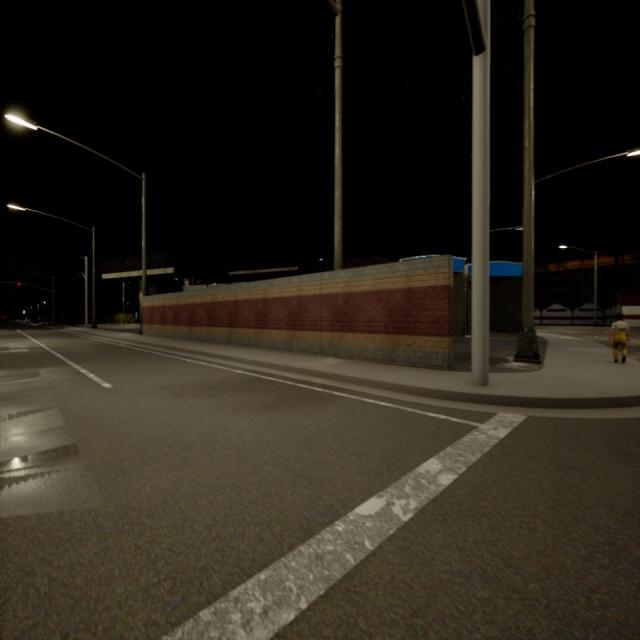Pedestrian: (609, 312, 629, 363)
traffic_light: (17, 282, 21, 286)
